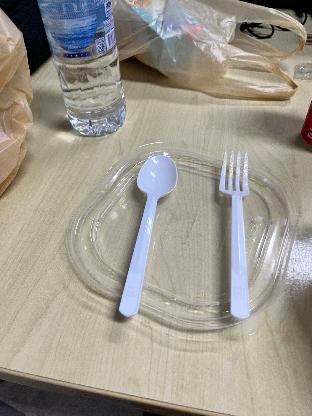Others: (102, 146, 184, 324), (205, 147, 261, 332)
Plastic Bottle: (38, 1, 130, 140)
